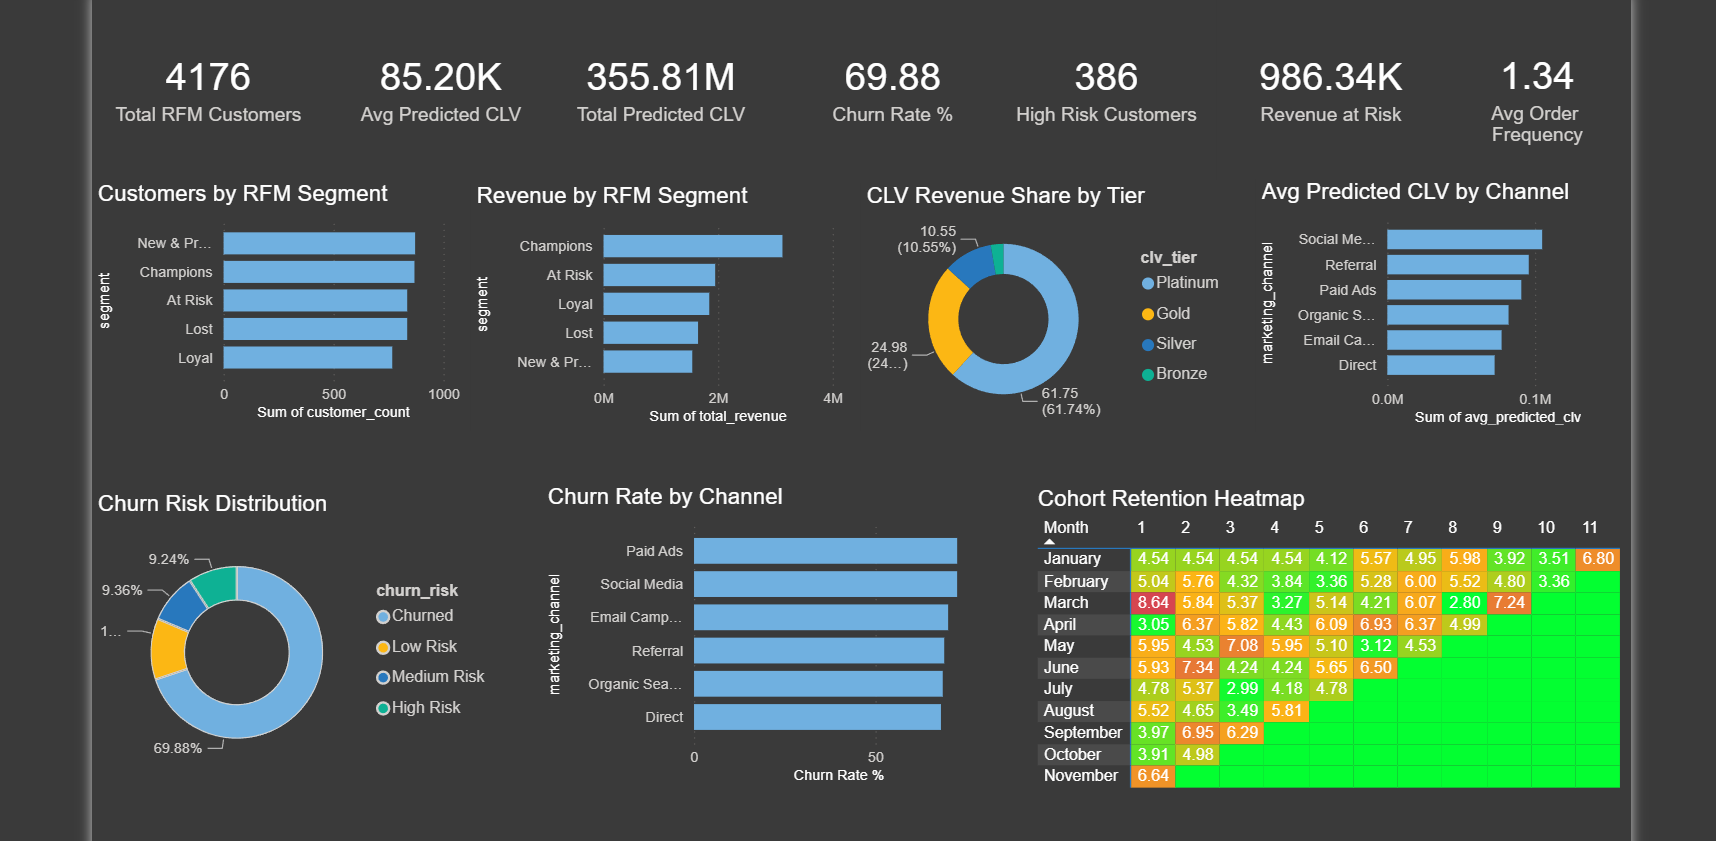

What the dashboard file says about the page in this screenshot:
{"tool":"powerbi","page":{"name":"Customer Analysis","canvas":[1280,900],"ordinal":1},"visuals":[{"type":"shape","box":[0,0,280,898.6],"z":0},{"type":"textbox","box":[12.8,47.7,239.5,122.1],"z":1000},{"type":"actionButton","box":[51.4,294.3,163.3,40],"z":2000},{"type":"actionButton","box":[55.7,357.1,158.6,40],"z":3000},{"type":"slicer","title":"CLV Tier","fields":{"Values":["clv_tier_summary.clv_tier"]},"box":[48.3,618.3,171.7,93.3],"z":5000},{"type":"actionButton","box":[76.7,820,98.8,39.5],"z":7000},{"type":"actionButton","box":[51.4,228.6,163.3,40],"z":8000},{"type":"shape","box":[280,0,1000,120],"z":9000},{"type":"shape","box":[20,168.6,240,45],"z":10000},{"type":"shape","box":[20,425.7,240,45],"z":11000},{"type":"card","fields":{"Values":["churn_by_channel.Total RFM Customers"]},"box":[322.9,0,194.3,108.6],"z":12000},{"type":"card","fields":{"Values":["churn_by_channel.Avg Predicted CLV"]},"box":[575.7,0,190,108.6],"z":13000},{"type":"card","fields":{"Values":["churn_by_channel.Total Predicted CLV"]},"box":[835.7,0,177.1,108.6],"z":14000},{"type":"card","fields":{"Values":["rfm_customers.Avg Order Frequency"]},"box":[1056.7,0,181.7,108.3],"z":15000},{"type":"barChart","title":"Customers by RFM Segment","fields":{"Category":["rfm_segments_summary.segment"],"Y":["Sum(rfm_segments_summary.customer_count)"]},"box":[322.9,147.1,397.1,301.4],"z":16000},{"type":"barChart","title":" Revenue by RFM Segment","fields":{"Category":["rfm_segments_summary.segment"],"Y":["Sum(rfm_segments_summary.total_revenue)"]},"box":[835.7,147.1,430,302.9],"z":17000},{"type":"pieChart","title":"CLV Revenue Share by Tier","fields":{"Category":["clv_tier_summary.clv_tier"],"Y":["Sum(clv_tier_summary.revenue_share_%)"]},"box":[322.9,470,397.1,384.3],"z":18000},{"type":"barChart","title":"Avg Predicted CLV by Channel","fields":{"Y":["Sum(clv_by_channel.avg_predicted_clv)"],"Category":["clv_by_channel.marketing_channel"]},"box":[835.7,470,418.6,384.3],"z":19000},{"type":"slicer","title":"RFM Segment","fields":{"Values":["rfm_segments_summary.segment"]},"box":[48.3,506.7,171.7,93.3],"z":21000},{"type":"slicer","title":"Marketing Channel","fields":{"Values":["clv_by_channel.marketing_channel"]},"box":[48.3,723.3,170,96.7],"z":22000}]}

Visuals, with their boxes on the page's 1280x900 design canvas (x1, y1, x2, y2). These are canvas units, not pixel positions in the 1716x841 screenshot, which may show the page scaled, cropped or inside an application window:
shape: x1=0 y1=0 x2=280 y2=899
textbox: x1=13 y1=48 x2=252 y2=170
actionButton: x1=51 y1=294 x2=215 y2=334
actionButton: x1=56 y1=357 x2=214 y2=397
"CLV Tier" slicer: x1=48 y1=618 x2=220 y2=712
actionButton: x1=77 y1=820 x2=176 y2=860
actionButton: x1=51 y1=229 x2=215 y2=269
shape: x1=280 y1=0 x2=1280 y2=120
shape: x1=20 y1=169 x2=260 y2=214
shape: x1=20 y1=426 x2=260 y2=471
card - churn_by_channel.Total RFM Customers: x1=323 y1=0 x2=517 y2=109
card - churn_by_channel.Avg Predicted CLV: x1=576 y1=0 x2=766 y2=109
card - churn_by_channel.Total Predicted CLV: x1=836 y1=0 x2=1013 y2=109
card - rfm_customers.Avg Order Frequency: x1=1057 y1=0 x2=1238 y2=108
"Customers by RFM Segment" barChart: x1=323 y1=147 x2=720 y2=448
" Revenue by RFM Segment" barChart: x1=836 y1=147 x2=1266 y2=450
"CLV Revenue Share by Tier" pieChart: x1=323 y1=470 x2=720 y2=854
"Avg Predicted CLV by Channel" barChart: x1=836 y1=470 x2=1254 y2=854
"RFM Segment" slicer: x1=48 y1=507 x2=220 y2=600
"Marketing Channel" slicer: x1=48 y1=723 x2=218 y2=820
